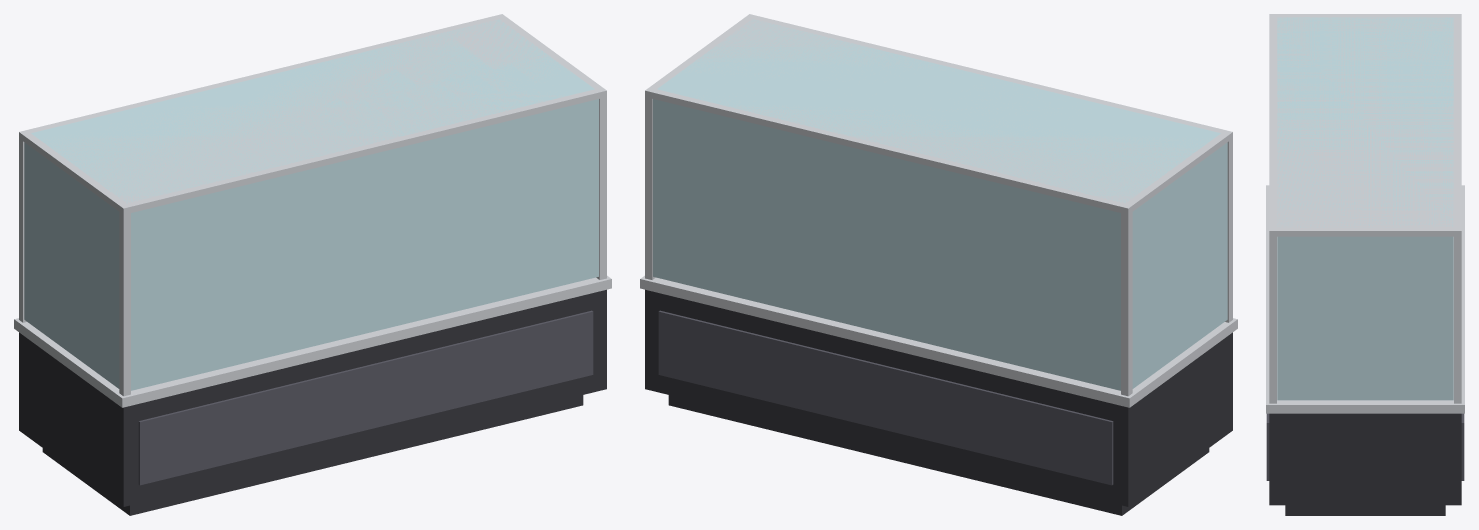
File: MKT_GameCase.glb
3 renders of one model, left to right at view 1: azimuth 30°, elevation 25°; view 2: azimuth 150°, elevation 25°; view 3: azimuth 270°, elevation 25°, orthographic. The views are drawn at different scales.
Parts seen in each view (by area): view 1: GameCase; view 2: GameCase; view 3: GameCase.
Boxes of the visible parts, <box> form: GameCase: <box>14,14,611,515</box>; GameCase: <box>640,14,1237,515</box>; GameCase: <box>1266,14,1464,515</box>.
Size of the model in its own units: 1.62 by 1 by 0.62.
